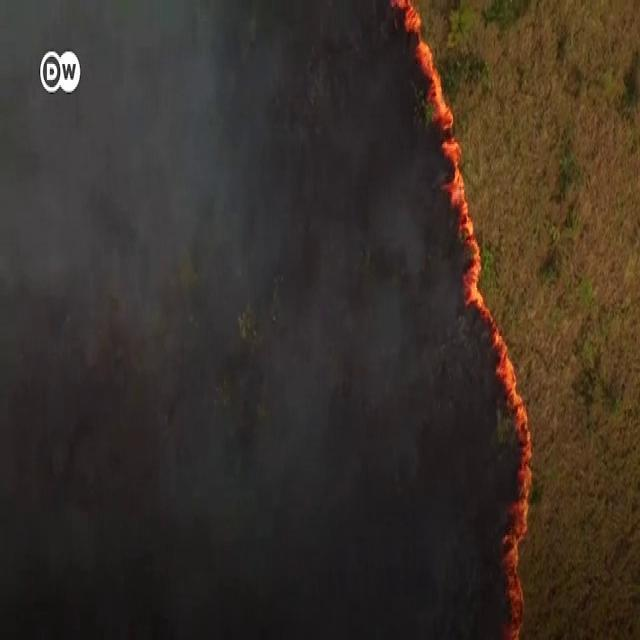Fire: (444, 142, 533, 633), (404, 8, 452, 126)
